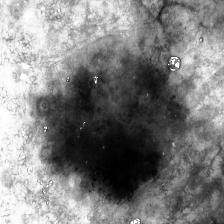Benign Marking or Mole: (67, 104, 161, 206)
